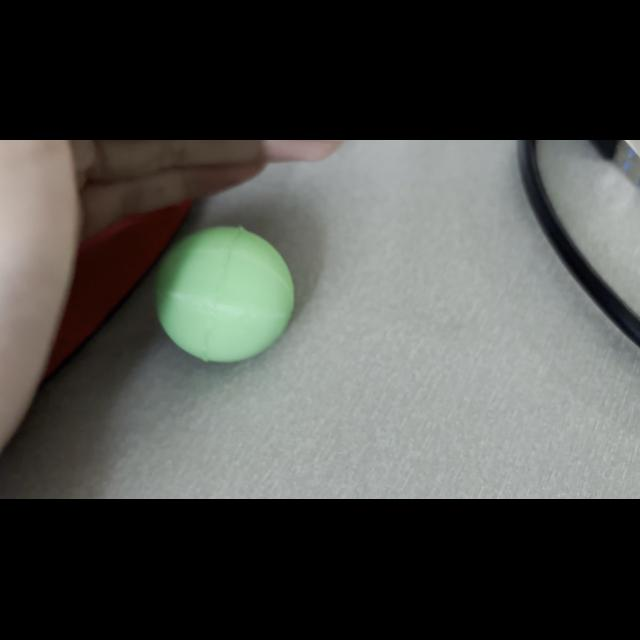objects: (146, 218, 298, 368)
